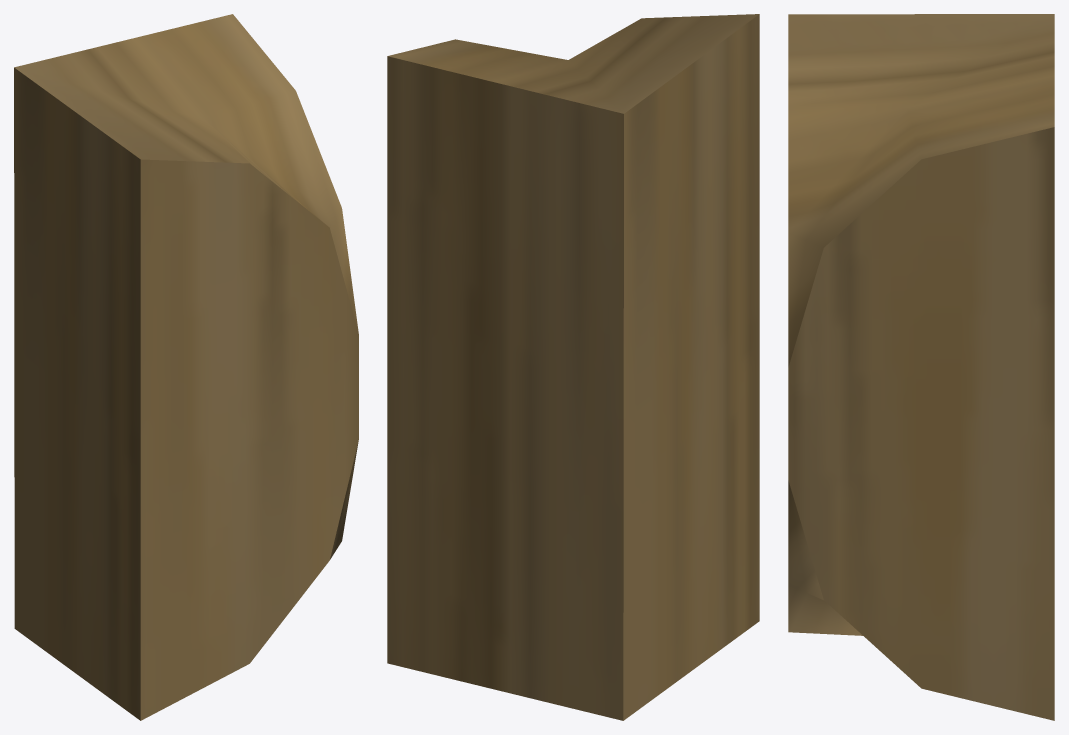
The model's file is Cabinet_Edge_Bevel_CornerInner.fbx.
The picture shows the model from 3 angles, left to right: view 1: azimuth 30°, elevation 25°; view 2: azimuth 150°, elevation 25°; view 3: azimuth 270°, elevation 25°; orthographic projection. The views are drawn at different scales.
Parts seen in each view (by area): view 1: Cabinet_Edge_Bevel_CornerInner; view 2: Cabinet_Edge_Bevel_CornerInner; view 3: Cabinet_Edge_Bevel_CornerInner.
Boxes of the visible parts, bbox=[...] form: Cabinet_Edge_Bevel_CornerInner: bbox=[14, 14, 358, 720]; Cabinet_Edge_Bevel_CornerInner: bbox=[387, 14, 759, 720]; Cabinet_Edge_Bevel_CornerInner: bbox=[788, 14, 1054, 720].
Size of the model in its own units: 1.23 by 3.01 by 1.22.
